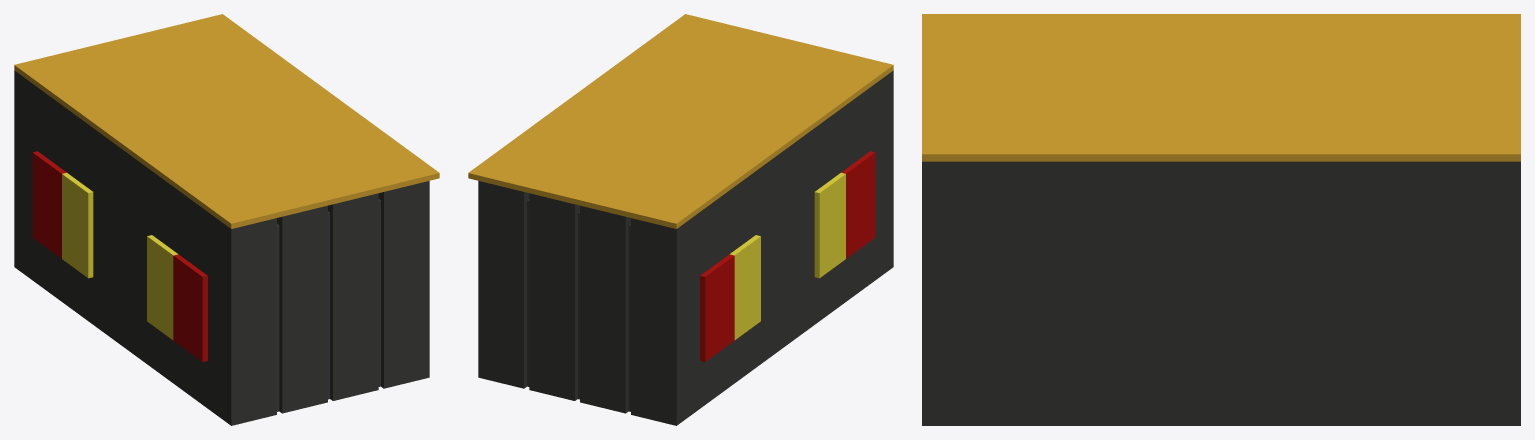
File: mobile_crane_counterweight.glb
The picture shows the model from 3 angles, left to right: view 1: azimuth 30°, elevation 25°; view 2: azimuth 150°, elevation 25°; view 3: azimuth 270°, elevation 25°; orthographic projection. The views are drawn at different scales.
Visible parts, largest first — view 1: body:compound; view 2: body:compound; view 3: body:compound.
Boxes of the visible parts, box(x1,y1,x2,y2) form: body:compound: box(14, 14, 439, 425); body:compound: box(468, 14, 893, 425); body:compound: box(922, 14, 1520, 425).
Bounding box in the file's own units: 1.31 × 1.19 × 2.31.
